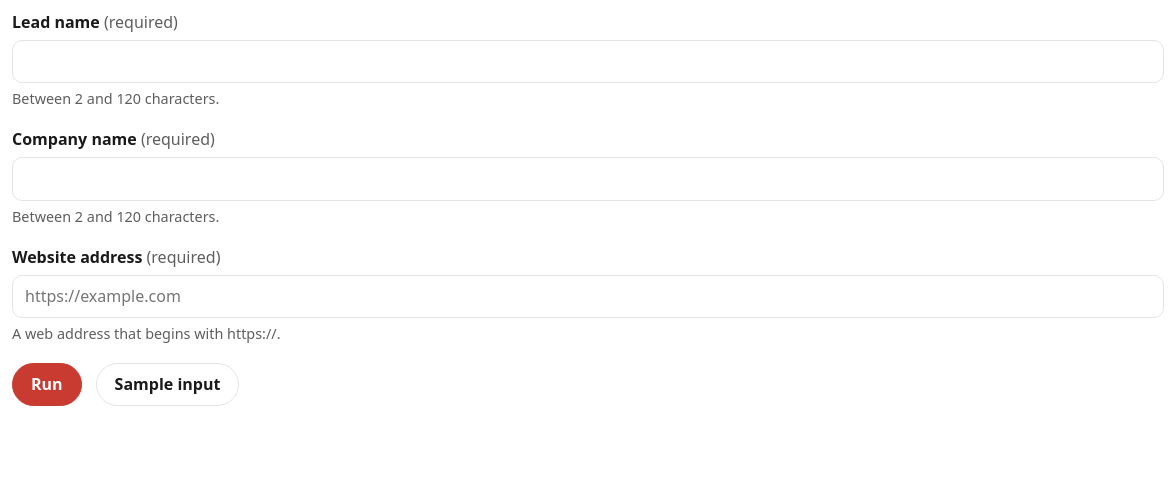
InputForm: validation messages › rejects an address that does not begin with https://
Type "Ada Lovelace" into the field labelled "Lead name (required)" at (588, 62), box [12, 40, 1164, 83]
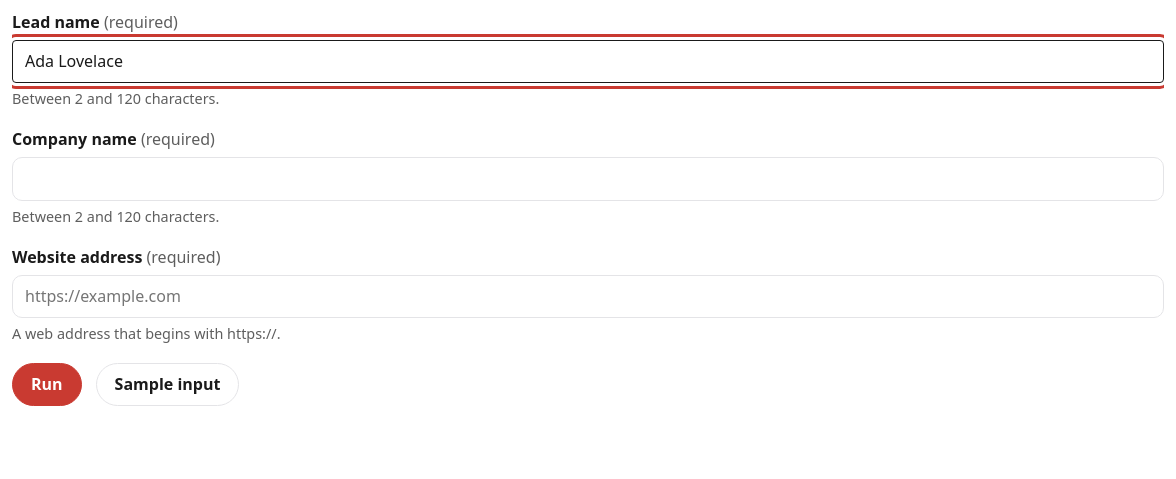
Type "http://example.com" into the field labelled "Website address (required)" at (588, 296), box [12, 275, 1164, 318]
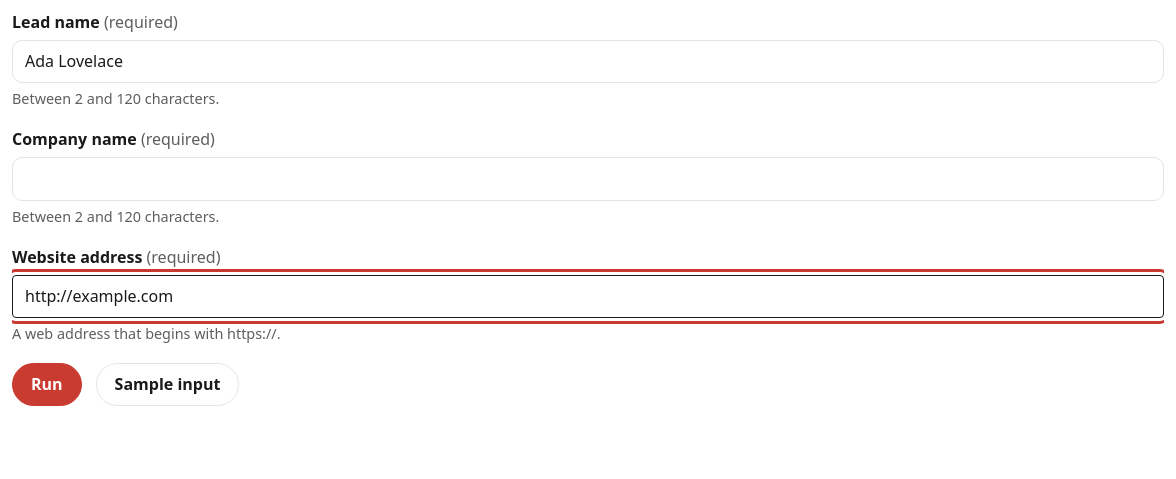
Click the button "Run" at (47, 384), box [12, 363, 82, 406]
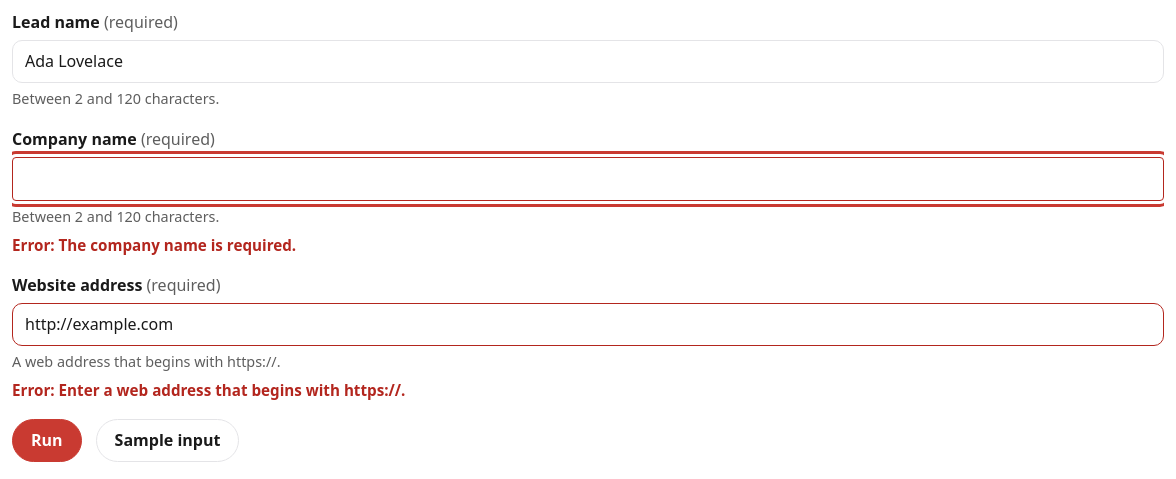
Expected: the text "Enter a web address that begins with https://." is shown, [59, 380, 405, 400]
